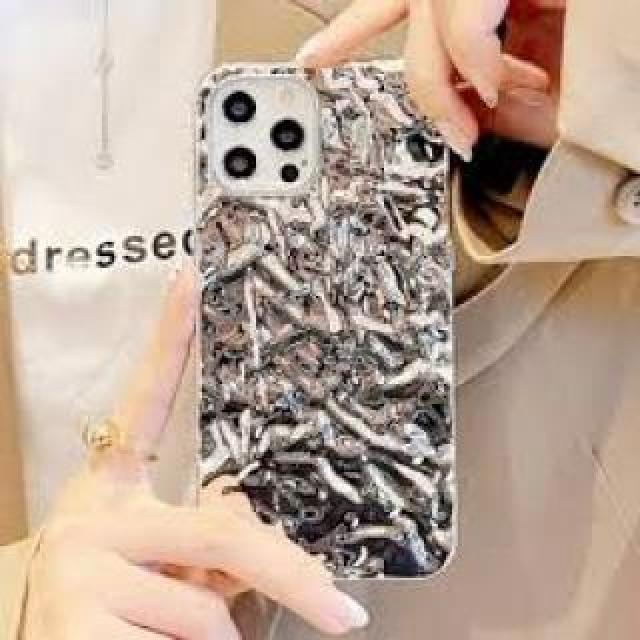smart phone: (180, 48, 470, 585)
